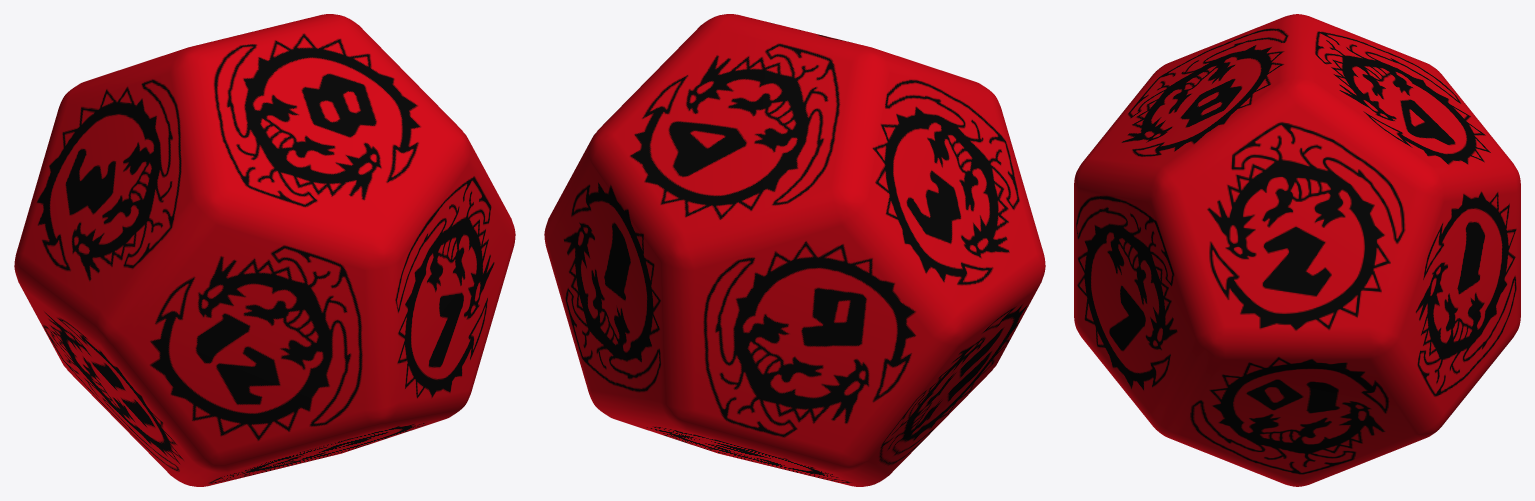
The model's file is d12_dragons_SDRA04.glb.
3 renders of one model, left to right at view 1: azimuth 30°, elevation 25°; view 2: azimuth 150°, elevation 25°; view 3: azimuth 270°, elevation 25°, orthographic. The views are drawn at different scales.
Parts seen in each view (by area): view 1: Solid; view 2: Solid; view 3: Solid.
Part boxes in pixels (bbox=[...]): Solid: bbox=[14, 14, 515, 486]; Solid: bbox=[544, 14, 1045, 486]; Solid: bbox=[1074, 14, 1520, 486].
Bounding box in the file's own units: 164 × 164 × 164.
Materials: 1 (1 with a texture image).
